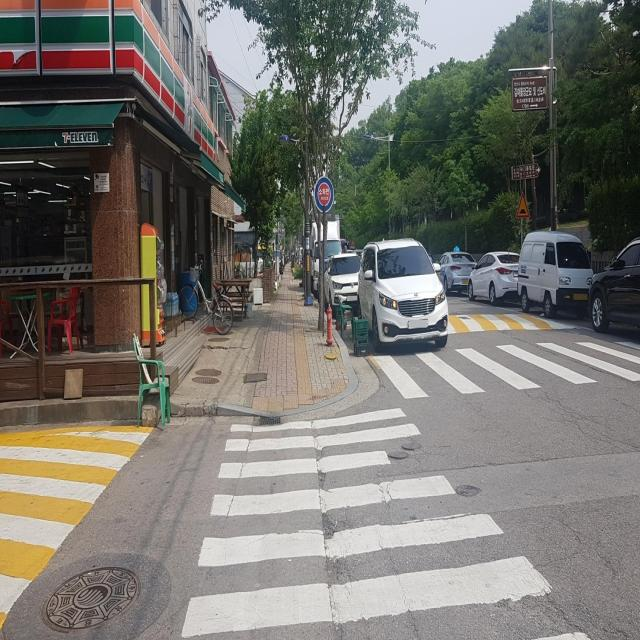횡단보도: (181, 403, 588, 639), (365, 341, 640, 396)
